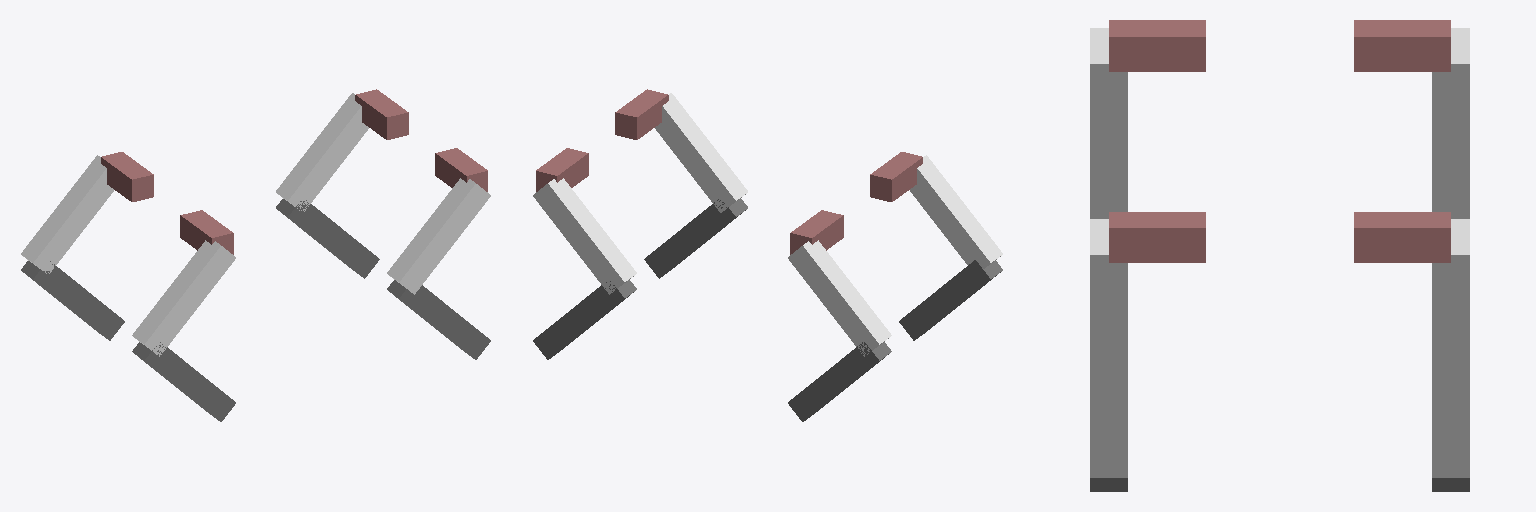
robot.urdf — ava:
<robot name="ava">
<!-- Set up materials -->
    <material name="gray">
        <color rgba=".5 .5 .5 1" />
    </material>
    <material name="red">
        <color rgba=".7 .5 .5 1" />
    </material>
    <material name="green">
        <color rgba=".5 .7 .5 1" />
    </material>
    <material name="blue">
        <color rgba=".5 .5 .7 1" />
    </material>
    <material name="white">
        <color rgba=".9 .9 .9 1" />
    </material>
    <material name="gray2">
        <color rgba=".6 .6 .6 1" />
    </material>
    <material name="gray3">
        <color rgba=".15 .15 .15 1" />
    </material>
<!-- Set up base link, footprint and lidar -->
    
    <link name="base_link">
        <visual>
            <origin xyz="-0.02 0.0 0.0" rpy="1.5708 0 -1.5708"/>
            <geometry>
                <!--<box size="0.234 0.077 0.05"/>-->
                <mesh filename = "file://C:\dev_ava\install\share\ava_description\Body.stl"/>
            </geometry>
            <material name="gray2"/>
        </visual>
    </link>

    <link name="base_footprint"/>

    <joint name="base_joint" type="fixed">
        <parent link="base_link"/>
        <child link="base_footprint"/>
        <origin xyz="0.0 0.0 -0.1414"/>
    </joint>

    <link name="lidar_link">
        <visual>
            <origin xyz="0.0 0.0 0.0" rpy="0 0 -1.5708"/>
            <geometry>
                <mesh filename = "file://C:\dev_ava\install\share\ava_description\Lidar.stl"/>
            </geometry>
            <material name="gray3"/>
        </visual>
    </link>

    <joint name="lidar_joint" type="fixed">
        <parent link="base_link"/>
        <child link="lidar_link"/>
        <origin xyz="0.05 0.0 0.065" rpy="0 0 3.1416"/>
    </joint>

<!-- Set up the four shoulder links and joints-->
    <link name="fl_shoulder">
        <visual>
            <origin xyz="0 0.025 0"/>
            <geometry>
                <box size="0.02 0.05 0.02"/>
            </geometry>
            <material name="red"/>
        </visual>
    </link>
    <joint name="joint_shoulder_fl" type="revolute">
        <parent link="base_link"/>
        <child link="fl_shoulder"/>
        <origin xyz="0.117 0.0385 0"/>
        <axis xyz="1 0 0"/>
        <limit effort="10" lower="-0.548" upper="1.5708" velocity="10"/>
    </joint>

    <link name="fr_shoulder">
        <visual>
            <origin xyz="0 -0.025 0"/>
            <geometry>
                <box size="0.02 0.05 0.02"/>
            </geometry>
            <material name="red"/>
        </visual>
    </link>
    <joint name="joint_shoulder_fr" type="revolute">
        <parent link="base_link"/>
        <child link="fr_shoulder"/>
        <origin xyz="0.117 -0.0385 0"/>
        <axis xyz="-1 0 0"/>
        <limit effort="10" lower="-0.548" upper="1.5708" velocity="10"/>
    </joint>

     <link name="br_shoulder">
        <visual>
            <origin xyz="0 -0.025 0"/>
            <geometry>
                <box size="0.02 0.05 0.02"/>
            </geometry>
            <material name="red"/>
        </visual>
    </link>
    <joint name="joint_shoulder_br" type="revolute">
        <parent link="base_link"/>
        <child link="br_shoulder"/>
        <origin xyz="-0.117 -0.0385 0"/>
        <axis xyz="-1 0 0"/>
        <limit effort="10" lower="-0.548" upper="1.5708" velocity="10"/>
    </joint>

     <link name="bl_shoulder">
        <visual>
            <origin xyz="0 0.025 0"/>
            <geometry>
                <box size="0.02 0.05 0.02"/>
            </geometry>
            <material name="red"/>
        </visual>
    </link>
    <joint name="joint_shoulder_bl" type="revolute">
        <parent link="base_link"/>
        <child link="bl_shoulder"/>
        <origin xyz="-0.117 0.0385 0"/>
        <axis xyz="1 0 0"/>
        <limit effort="10" lower="-0.548" upper="1.5708" velocity="10"/>
    </joint>

<!-- Set up the four femur links and joints-->   
    <link name="fl_femur">
        <visual>
            <origin xyz="0 0 -0.05"/>
            <geometry>
                <box size="0.02 0.02 0.1"/>
            </geometry>
            <material name="white"/>
        </visual>
    </link>
    <joint name="joint_femur_fl" type="revolute">
        <parent link="fl_shoulder"/>
        <child link="fl_femur"/>
        <origin xyz="0 0.05 0" rpy="0 0.785398 0"/>
        <axis xyz="0 -1 0"/>
        <limit effort="10" lower="-0.785398" upper="0.785398" velocity="10"/>
    </joint>

    <link name="fr_femur">
        <visual>
            <origin xyz="0 0 -0.05"/>
            <geometry>
                <box size="0.02 0.02 0.1"/>
            </geometry>
            <material name="white"/>
        </visual>
    </link>
    <joint name="joint_femur_fr" type="revolute">
        <parent link="fr_shoulder"/>
        <child link="fr_femur"/>
        <origin xyz="0 -0.05 0" rpy="0 0.785398 0"/>
        <axis xyz="0 -1 0"/>
        <limit effort="10" lower="-0.785398" upper="0.785398" velocity="10"/>
    </joint>

    <link name="br_femur">
        <visual>
            <origin xyz="0 0 -0.05"/>
            <geometry>
                <box size="0.02 0.02 0.1"/>
            </geometry>
            <material name="white"/>
        </visual>
    </link>
    <joint name="joint_femur_br" type="revolute">
        <parent link="br_shoulder"/>
        <child link="br_femur"/>
        <origin xyz="0 -0.05 0" rpy="0 0.785398 0"/>
        <axis xyz="0 -1 0"/>
        <limit effort="10" lower="-0.785398" upper="0.785398" velocity="10"/>
    </joint>

    <link name="bl_femur">
        <visual>
            <origin xyz="0 0 -0.05"/>
            <geometry>
                <box size="0.02 0.02 0.1"/>
            </geometry>
            <material name="white"/>
        </visual>
    </link>
    <joint name="joint_femur_bl" type="revolute">
        <parent link="bl_shoulder"/>
        <child link="bl_femur"/>
        <origin xyz="0 0.05 0" rpy="0 0.785398 0"/>
        <axis xyz="0 -1 0"/>
        <limit effort="10" lower="-0.785398" upper="0.785398" velocity="10"/>
    </joint>

<!-- Set up the four tibia links and joints-->   
    <link name="fl_tibia">
        <visual>
            <origin xyz="0 0 -0.05"/>
            <geometry>
                <box size="0.02 0.02 0.1"/>
            </geometry>
            <material name="gray"/>
        </visual>
    </link>
    <joint name="joint_tibia_fl" type="revolute">
        <parent link="fl_femur"/>
        <child link="fl_tibia"/>
        <origin xyz="0 0 -0.1" rpy="0 -1.5708 0"/>
        <axis xyz="0 -1 0"/>
        <limit effort="10" lower="-0.96" upper="0.96" velocity="10"/>
    </joint> 

     <link name="fr_tibia">
        <visual>
            <origin xyz="0 0 -0.05"/>
            <geometry>
                <box size="0.02 0.02 0.1"/>
            </geometry>
            <material name="gray"/>
        </visual>
    </link>
    <joint name="joint_tibia_fr" type="revolute">
        <parent link="fr_femur"/>
        <child link="fr_tibia"/>
        <origin xyz="0 0 -0.1" rpy="0 -1.5708 0"/>
        <axis xyz="0 -1 0"/>
        <limit effort="10" lower="-0.96" upper="0.96" velocity="10"/>
    </joint>    

    <link name="br_tibia">
        <visual>
            <origin xyz="0 0 -0.05"/>
            <geometry>
                <box size="0.02 0.02 0.1"/>
            </geometry>
            <material name="gray"/>
        </visual>
    </link>
    <joint name="joint_tibia_br" type="revolute">
        <parent link="br_femur"/>
        <child link="br_tibia"/>
        <origin xyz="0 0 -0.1" rpy="0 -1.5708 0"/>
        <axis xyz="0 -1 0"/>
        <limit effort="10" lower="-0.96" upper="0.96" velocity="10"/>
    </joint> 

    <link name="bl_tibia">
        <visual>
            <origin xyz="0 0 -0.05"/>
            <geometry>
                <box size="0.02 0.02 0.1"/>
            </geometry>
            <material name="gray"/>
        </visual>
    </link>
    <joint name="joint_tibia_bl" type="revolute">
        <parent link="bl_femur"/>
        <child link="bl_tibia"/>
        <origin xyz="0 0 -0.1" rpy="0 -1.5708 0"/>
        <axis xyz="0 -1 0"/>
        <limit effort="10" lower="-0.96" upper="0.96" velocity="10"/>
    </joint>    
</robot>                      
                  

--- Facts derived from the render (not from the file) ---
3 views of the same robot in one strip: view 1: azimuth 30°, elevation 25°; view 2: azimuth 150°, elevation 25°; view 3: azimuth 270°, elevation 25° (orthographic).
Model ava with 15 links and 14 joints (12 revolute, 2 fixed), rooted at base_link, posed every joint at zero.
Links seen in each view (by area): view 1: fr_femur, br_femur, bl_femur, fl_femur, fl_tibia, br_tibia, bl_tibia, fr_tibia, fl_shoulder, bl_shoulder, br_shoulder, fr_shoulder; view 2: fl_femur, bl_femur, fr_femur, br_femur, br_tibia, bl_tibia, fl_tibia, fr_tibia, fr_shoulder, br_shoulder, bl_shoulder, fl_shoulder; view 3: fl_tibia, fr_tibia, br_shoulder, bl_shoulder, fl_shoulder, fr_shoulder, br_tibia, bl_tibia, fl_femur, fr_femur, br_femur, bl_femur.
Link boxes in pixels (left/top/right/bottom): fr_femur: left=387, top=178, right=490, bottom=294; br_femur: left=132, top=240, right=235, bottom=356; bl_femur: left=21, top=155, right=113, bottom=273; fl_femur: left=276, top=93, right=368, bottom=211; fl_tibia: left=276, top=199, right=379, bottom=278; br_tibia: left=132, top=342, right=235, bottom=421; bl_tibia: left=21, top=261, right=124, bottom=340; fr_tibia: left=387, top=280, right=490, bottom=359; fl_shoulder: left=355, top=89, right=408, bottom=139; bl_shoulder: left=101, top=152, right=153, bottom=201; br_shoulder: left=180, top=210, right=233, bottom=254; fr_shoulder: left=435, top=148, right=487, bottom=191; fl_femur: left=533, top=178, right=636, bottom=294; bl_femur: left=788, top=240, right=891, bottom=356; fr_femur: left=655, top=93, right=747, bottom=212; br_femur: left=910, top=155, right=1002, bottom=268; br_tibia: left=899, top=260, right=1002, bottom=340; bl_tibia: left=788, top=342, right=891, bottom=421; fl_tibia: left=533, top=280, right=636, bottom=359; fr_tibia: left=644, top=199, right=747, bottom=278; fr_shoulder: left=615, top=89, right=668, bottom=139; br_shoulder: left=870, top=152, right=922, bottom=201; bl_shoulder: left=790, top=210, right=843, bottom=254; fl_shoulder: left=536, top=148, right=588, bottom=191; fl_tibia: left=1432, top=315, right=1469, bottom=491; fr_tibia: left=1090, top=315, right=1127, bottom=491; br_shoulder: left=1109, top=20, right=1205, bottom=71; bl_shoulder: left=1354, top=20, right=1450, bottom=71; fl_shoulder: left=1354, top=212, right=1450, bottom=262; fr_shoulder: left=1109, top=212, right=1205, bottom=262; br_tibia: left=1090, top=124, right=1127, bottom=218; bl_tibia: left=1432, top=124, right=1469, bottom=218; fl_femur: left=1432, top=219, right=1469, bottom=314; fr_femur: left=1090, top=219, right=1127, bottom=314; br_femur: left=1090, top=28, right=1127, bottom=123; bl_femur: left=1432, top=28, right=1469, bottom=123.
Bounding box of the posed robot: 0.3218 × 0.197 × 0.1585 m (x, y, z).
Geometry: only primitive shapes (box / cylinder / sphere) drawn; not drawn: 2 mesh visuals (reference in a form the renderer does not follow).
